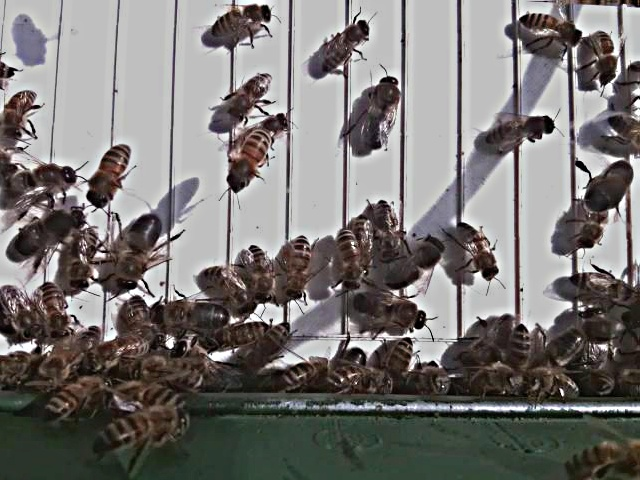Drone: (114, 208, 164, 291), (12, 203, 87, 257), (386, 231, 447, 291), (358, 70, 402, 151), (348, 287, 431, 328), (2, 159, 82, 196), (152, 297, 231, 331)
Worker: (454, 218, 504, 282), (224, 128, 273, 193), (90, 140, 136, 208), (321, 15, 373, 74), (207, 0, 278, 41), (486, 111, 558, 148), (513, 9, 584, 45), (66, 225, 103, 292), (0, 83, 42, 142), (250, 317, 297, 368), (243, 239, 280, 303), (38, 275, 73, 340), (372, 193, 404, 264), (229, 67, 273, 118), (284, 232, 315, 303), (202, 262, 254, 304), (334, 224, 365, 290), (590, 26, 620, 88), (566, 267, 627, 295)
